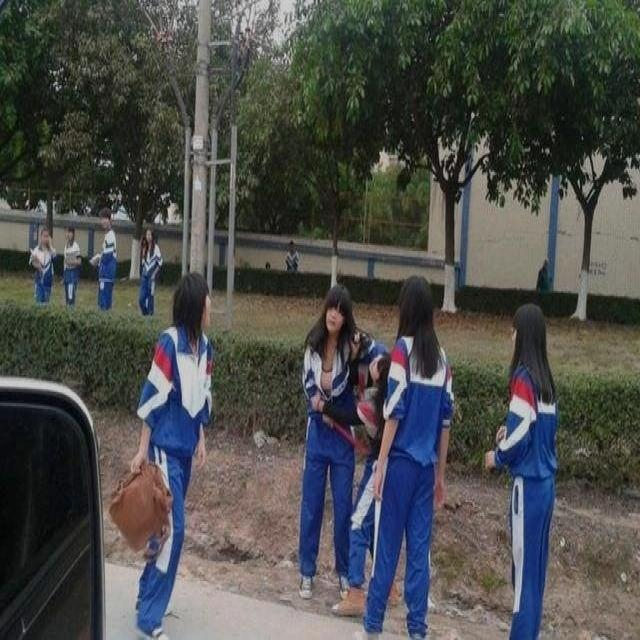fight: (296, 278, 407, 624), (364, 272, 459, 640), (129, 272, 217, 637)
non-fight: (483, 301, 563, 640)
